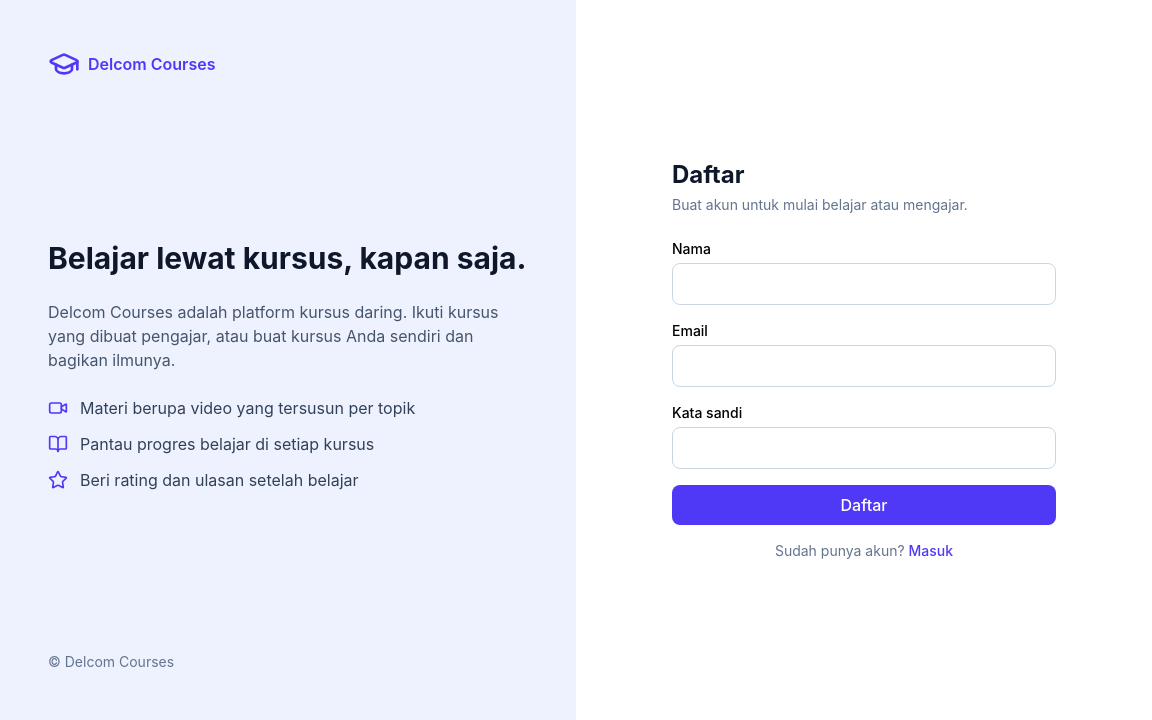
Scenario: RegisterPage › menampilkan error dan tidak berpindah halaman jika gagal
The width and height of the screenshot is (1152, 720).
Step 1. Type " Ani " into the field labelled "Nama" → (864, 284), box [672, 263, 1056, 305]
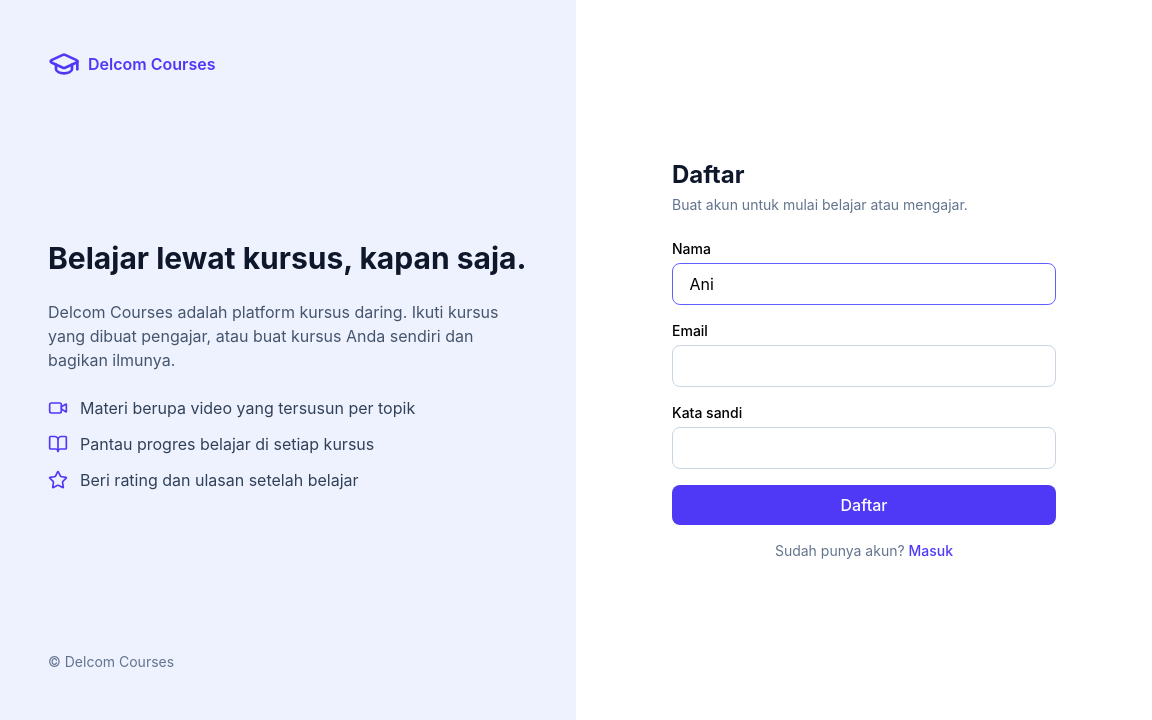
Step 2. Type " ani@mail.com " into the field labelled "Email" → (864, 366), box [672, 345, 1056, 387]
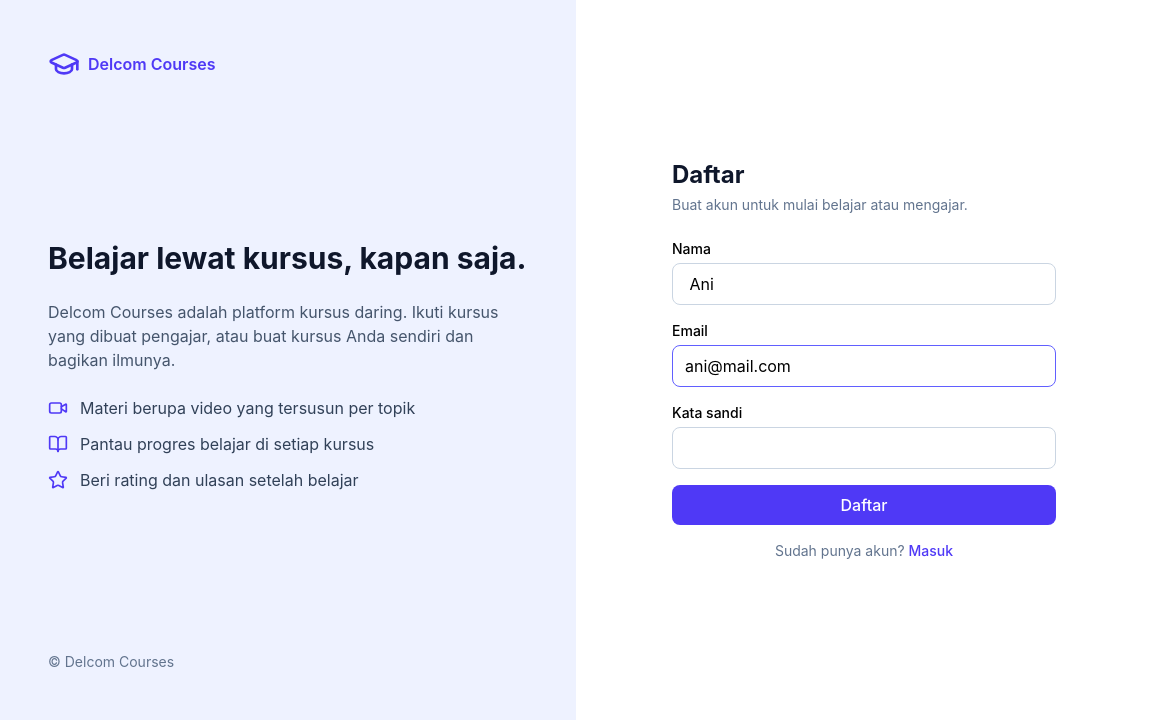
Step 3. Type "rahasia" into the password field labelled "Kata sandi" → (864, 448), box [672, 427, 1056, 469]
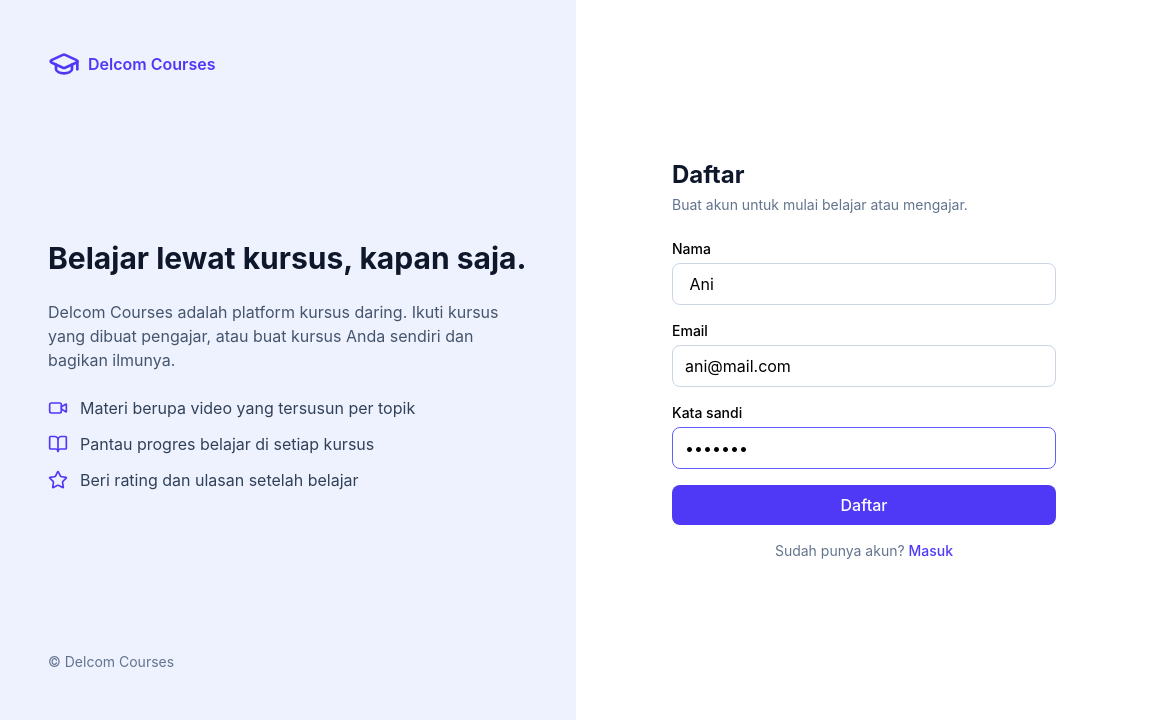
Step 4. Click the button "Daftar" → (864, 505), box [672, 485, 1056, 525]
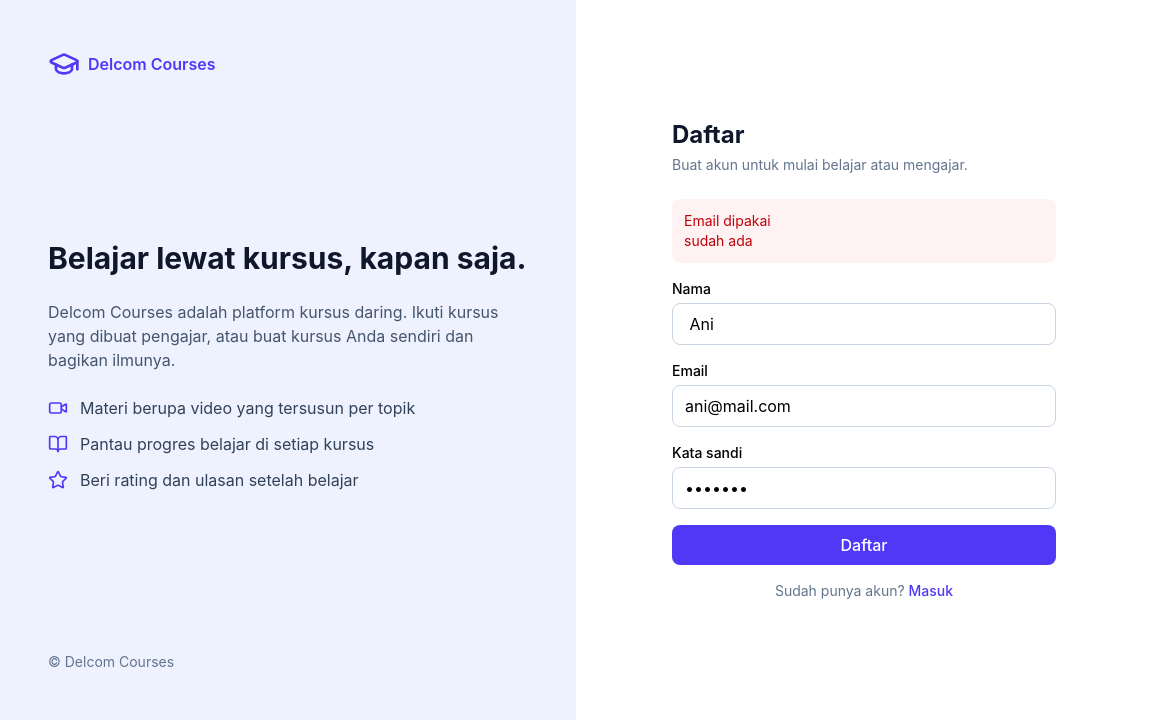
Expected: the text "Email dipakai" is shown, [684, 212, 771, 229]
Expected: the text "sudah ada" is shown, [684, 232, 753, 249]
